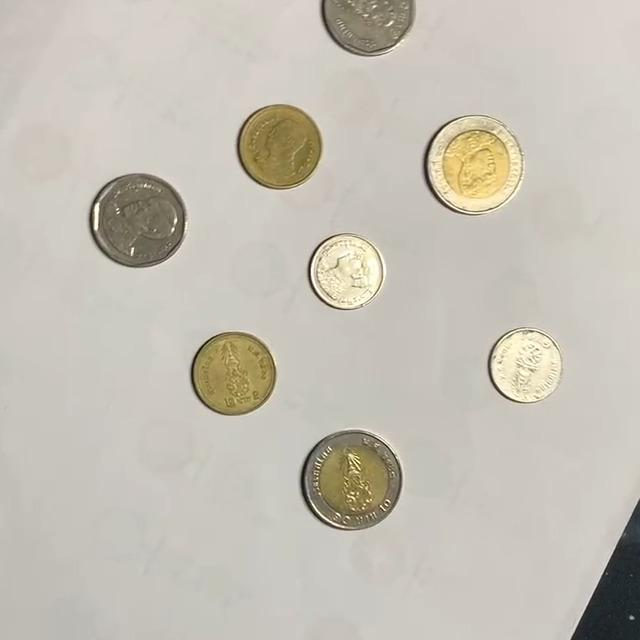1-baht: (309, 233, 388, 311), (488, 327, 565, 404)
10-baht: (303, 431, 404, 531), (427, 116, 526, 215)
2-baht: (191, 331, 277, 416), (238, 104, 324, 189)
5-baht: (90, 172, 189, 268), (321, 0, 417, 57)
